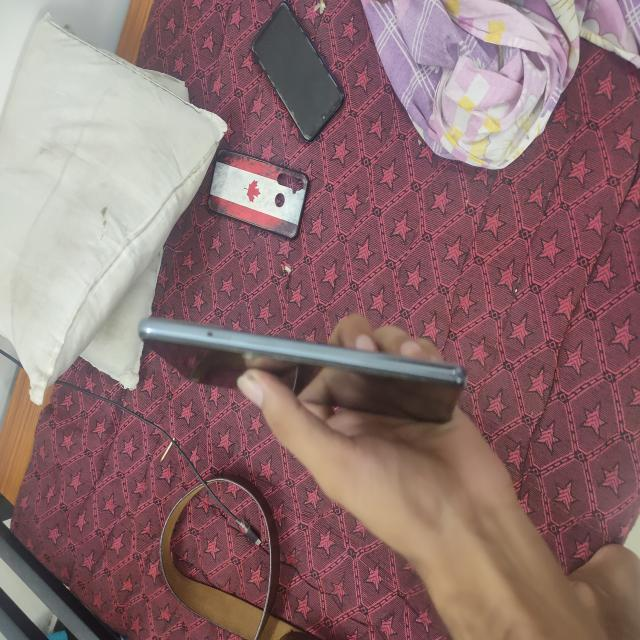Phone: (138, 313, 470, 431), (246, 0, 349, 146), (199, 146, 312, 244)
